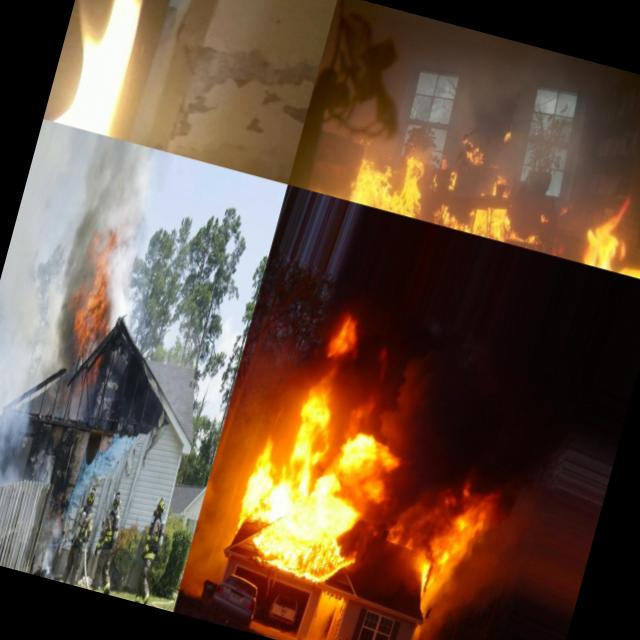fire: (336, 85, 640, 275), (228, 412, 402, 597), (42, 0, 194, 147), (296, 300, 366, 430), (67, 246, 126, 354), (428, 469, 502, 555), (342, 333, 398, 439), (376, 512, 430, 562), (416, 540, 453, 596), (301, 627, 354, 640)
smoke: (0, 121, 121, 481), (182, 344, 282, 586), (93, 142, 167, 258), (374, 340, 442, 450), (480, 479, 536, 564), (439, 549, 507, 611), (402, 590, 449, 640)
